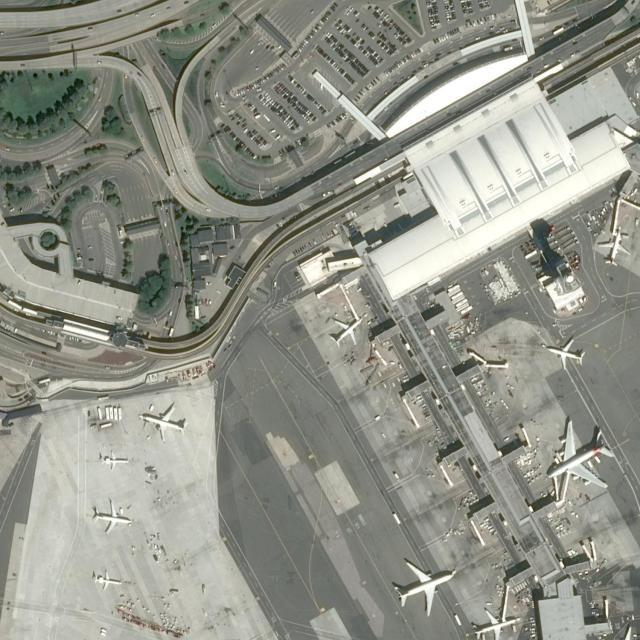Aircraft: (540, 419, 615, 491), (389, 558, 454, 616), (470, 606, 520, 640), (140, 403, 185, 438), (543, 336, 587, 370), (90, 500, 130, 532), (595, 231, 630, 266), (326, 316, 362, 347), (90, 567, 124, 591), (96, 450, 129, 469), (601, 624, 640, 640)
